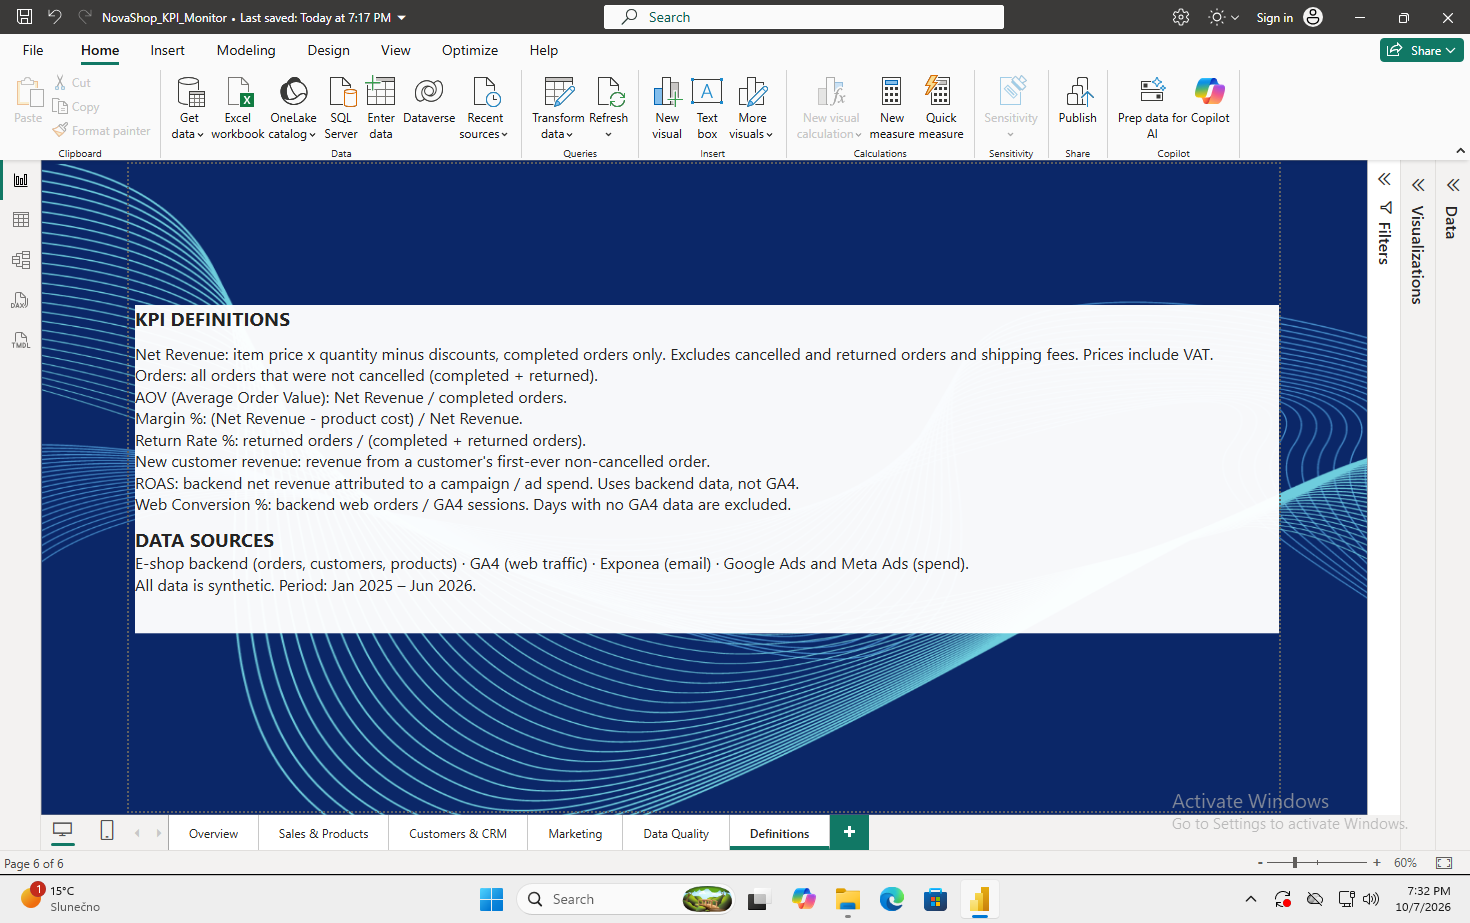

Layout of this report page (visuals, bound fields, positions):
{"tool":"powerbi","page":{"name":"Definitions","canvas":[1920,1080],"ordinal":5},"visuals":[{"type":"textbox","box":[10,235.4,1909.6,547.5],"z":0}]}

Visuals, with their boxes on the page's 1920x1080 design canvas (x1, y1, x2, y2). These are canvas units, not pixel positions in the 1470x923 screenshot, which may show the page scaled, cropped or inside an application window:
textbox: 10:235:1920:783
